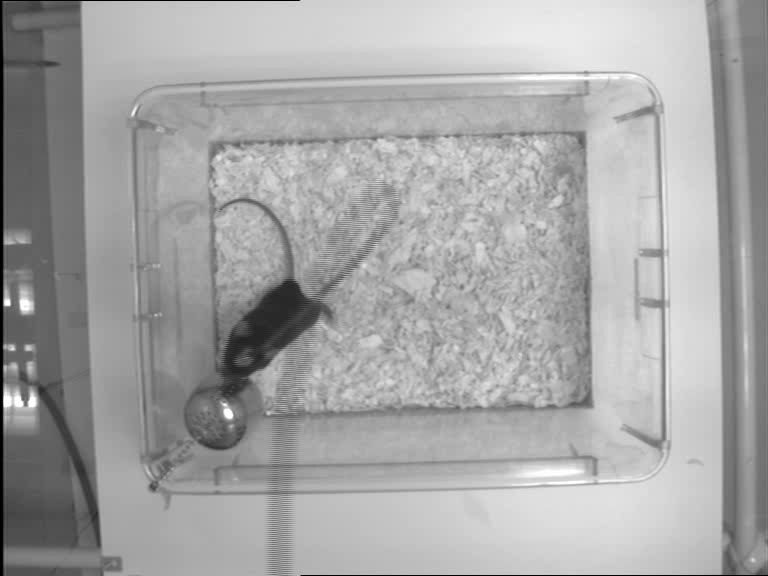mice: (218, 196, 338, 383)
